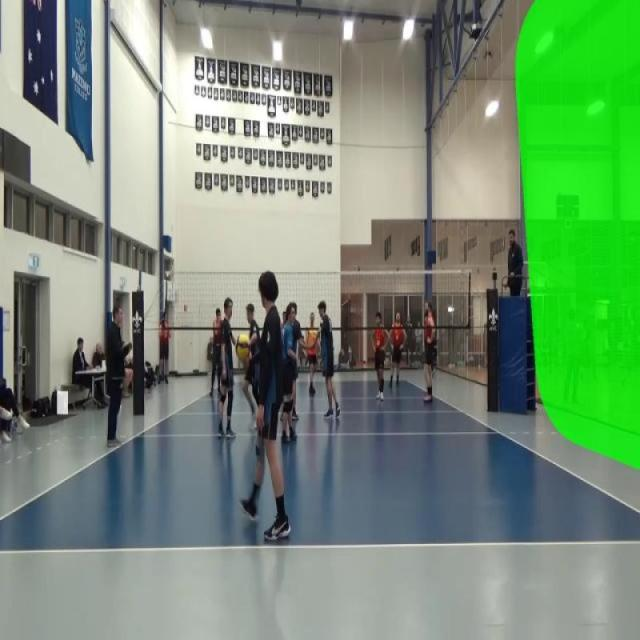volleyball: (234, 332, 252, 363)
